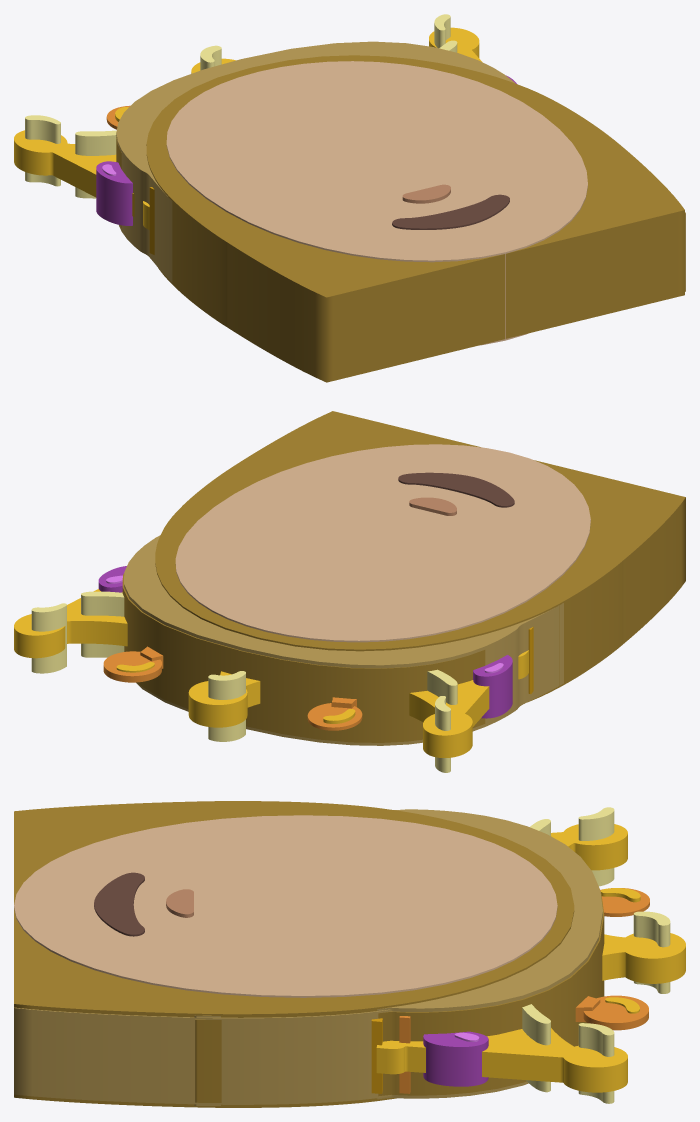
File: emoji_u1f478_1f3fc.glb
The picture shows the model from 3 angles, top to bottom: view 1: azimuth 30°, elevation 25°; view 2: azimuth 150°, elevation 25°; view 3: azimuth 270°, elevation 25°; orthographic projection. The views are drawn at different scales.
Parts seen in each view (by area): view 1: emoji_u1f478_1f3fc; view 2: emoji_u1f478_1f3fc; view 3: emoji_u1f478_1f3fc.
Boxes of the visible parts, x1,y1,x2,y2 form: emoji_u1f478_1f3fc: (14, 14, 685, 382); emoji_u1f478_1f3fc: (14, 411, 685, 772); emoji_u1f478_1f3fc: (14, 801, 685, 1107).
Bounding box in the file's own units: 0.0292 × 0.0058 × 0.0338.
